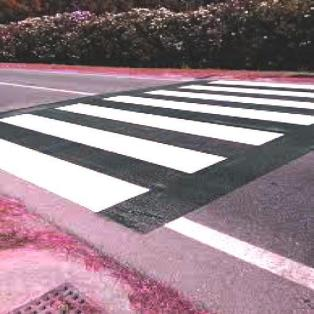Paso de Cebra: (50, 86, 313, 150)
